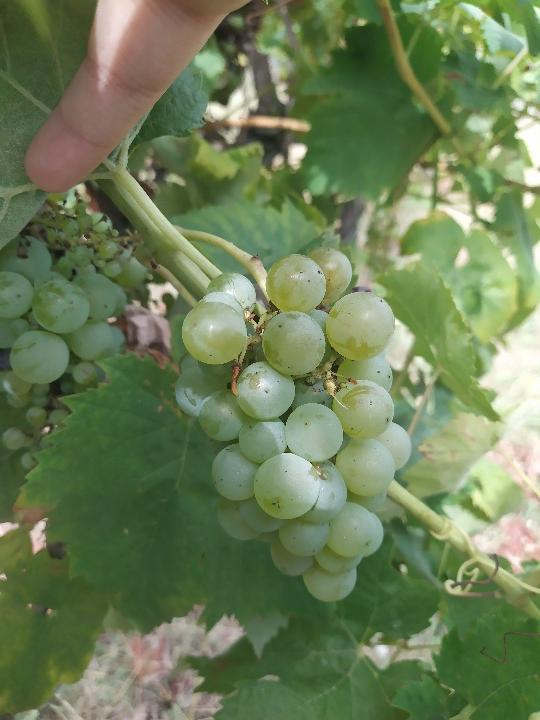grape: (170, 244, 414, 605)
